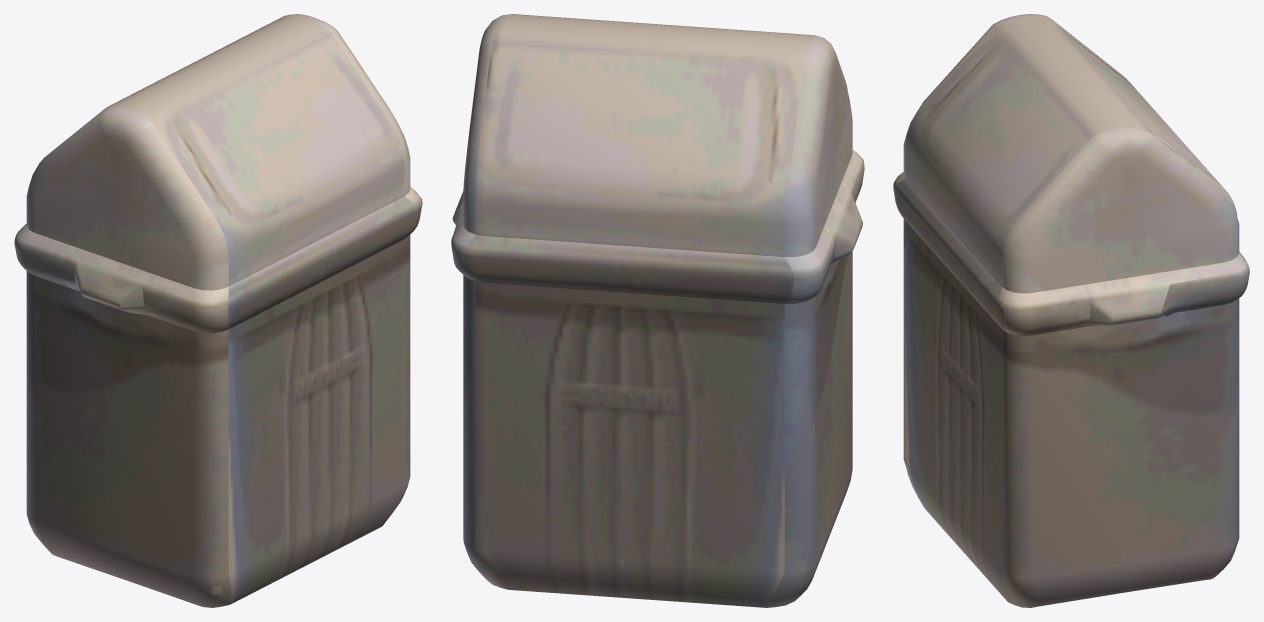
The model's file is tachito_basura.fbx.
3 renders of one model, left to right at view 1: azimuth 30°, elevation 25°; view 2: azimuth 150°, elevation 25°; view 3: azimuth 270°, elevation 25°, orthographic. The views are drawn at different scales.
Visible parts, largest first — view 1: tachito; view 2: tachito; view 3: tachito.
Part boxes in pixels (bbox=[...]): tachito: bbox=[14, 14, 422, 607]; tachito: bbox=[451, 14, 864, 607]; tachito: bbox=[893, 14, 1249, 607].
Bounding box in the file's own units: 22.32 × 28.66 × 19.83.
